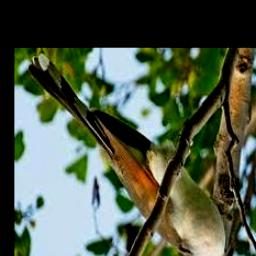Cuckoo: (27, 56, 240, 256)
